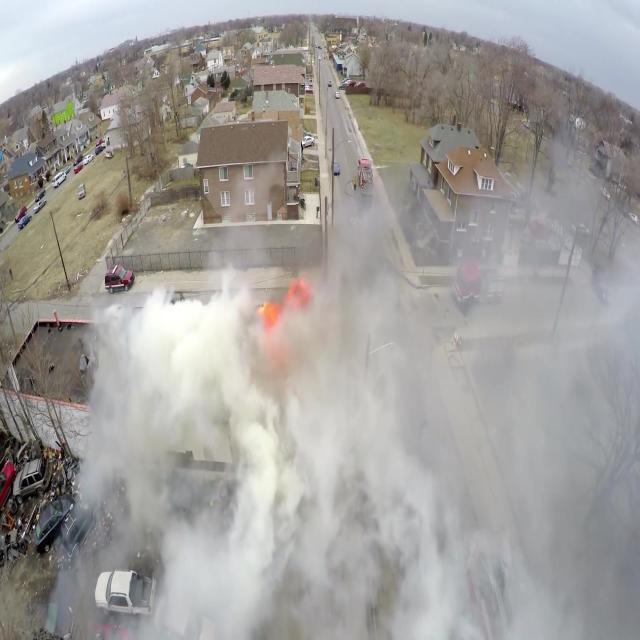Fire: (259, 275, 320, 346)
Smoke: (99, 267, 640, 640)
